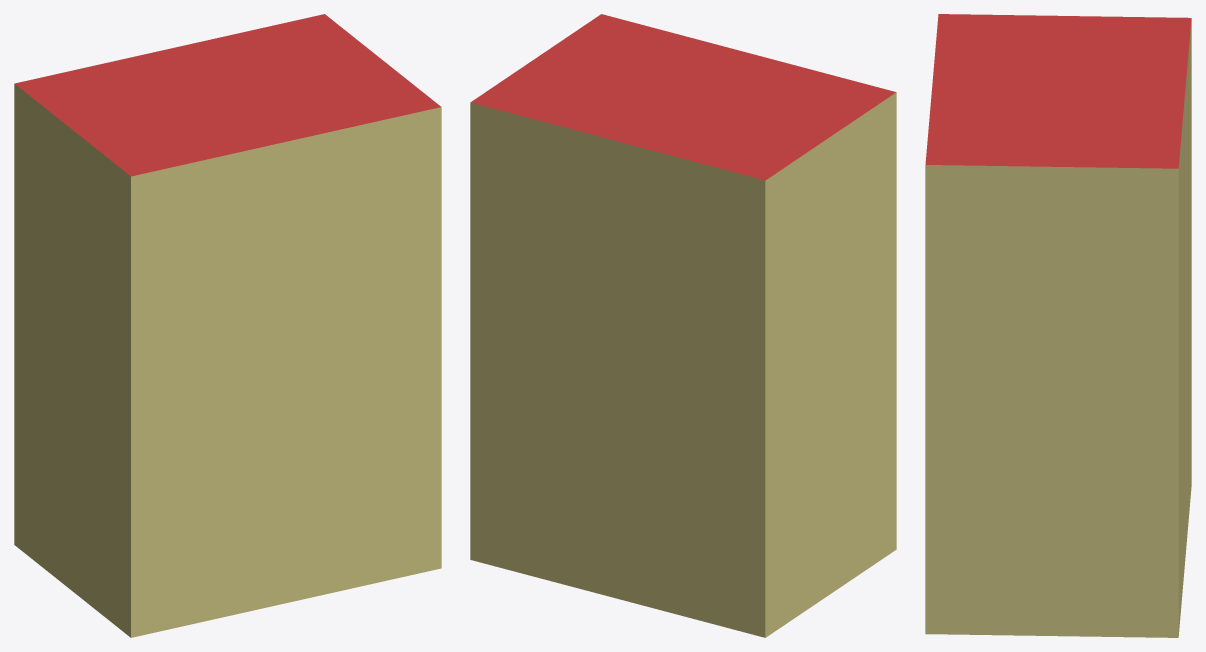
3 views of the same model, side by side, from view 1: azimuth 30°, elevation 25°; view 2: azimuth 150°, elevation 25°; view 3: azimuth 270°, elevation 25° (orthographic). The views are drawn at different scales.
Bounding box in the file's own units: 2.93 × 2.13 × 4.14.
